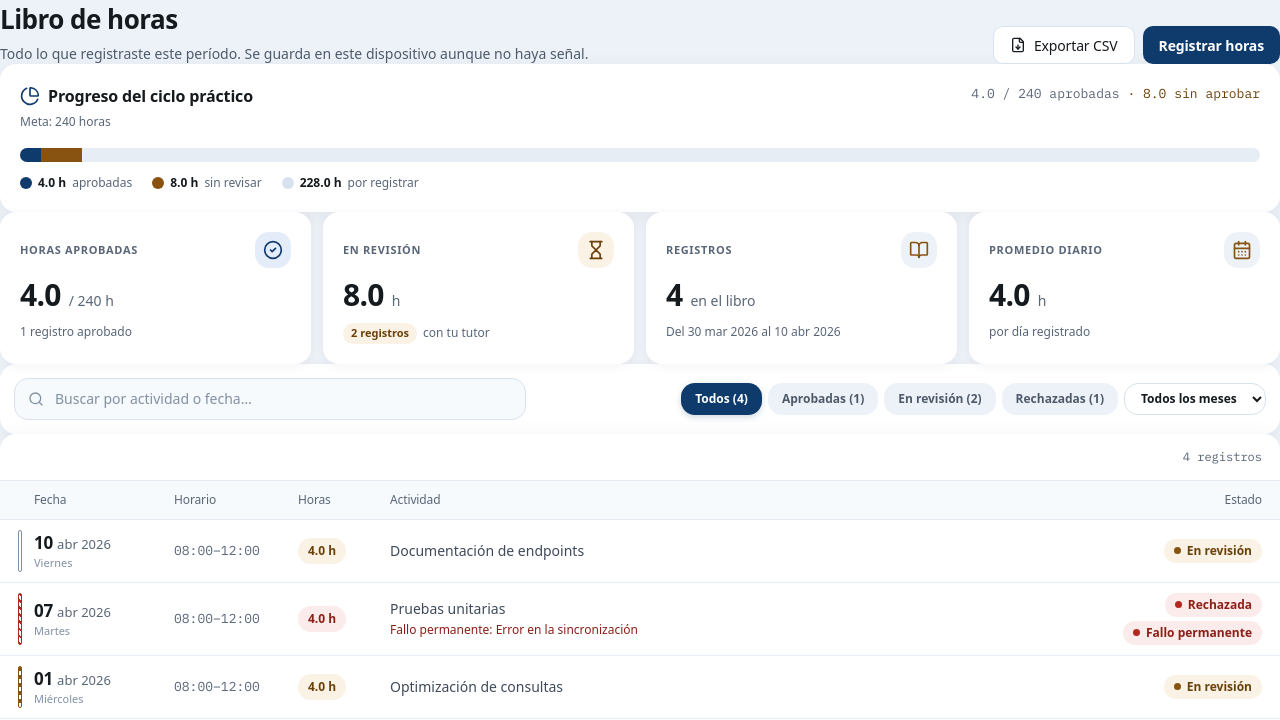
Scenario: libro de horas rediseñado (REDISEÑO-4) › filtros › si nada coincide lo dice y «Quitar filtros» devuelve todos los registros
The image size is (1280, 720).
Type "zzz" into the search field named "Buscar en el libro".
click(270, 398); type("zzz")  # box [14, 378, 526, 420]
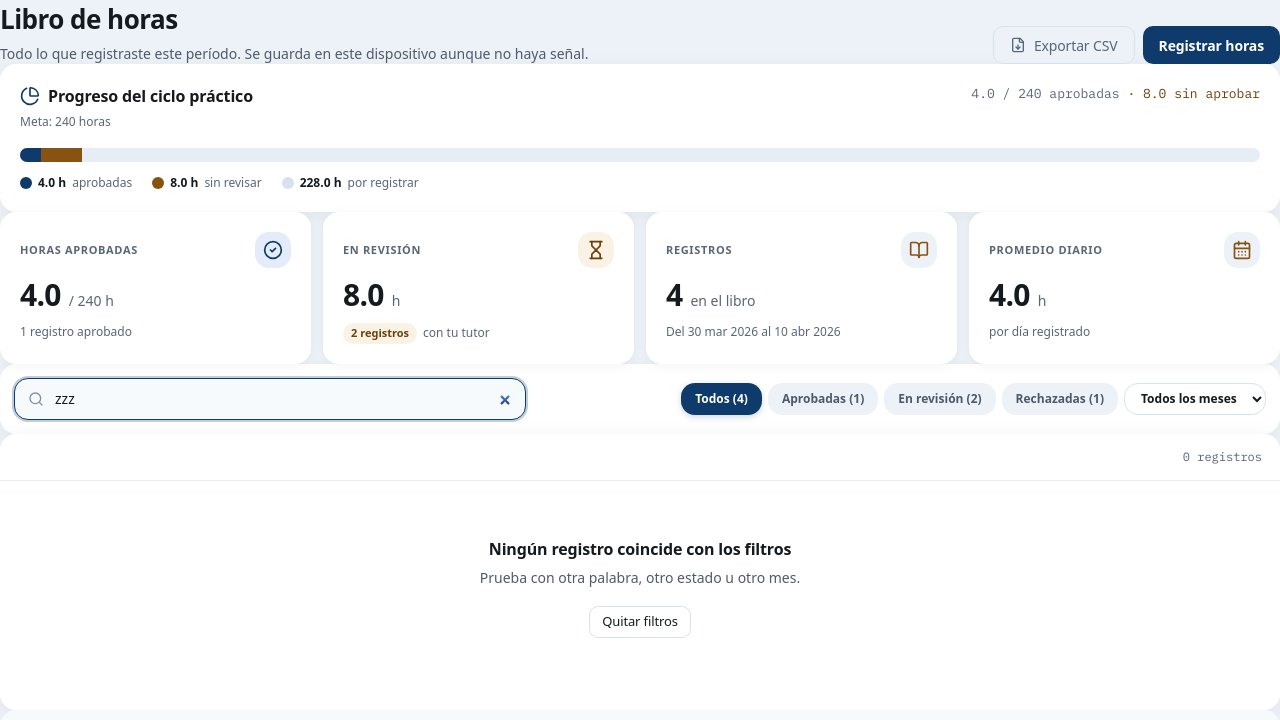
Expected: the text "Ningún registro coincide con los filtros" is shown, [489, 536, 791, 560]
Click the button "Quitar filtros".
click(640, 622)  # box [589, 606, 691, 638]
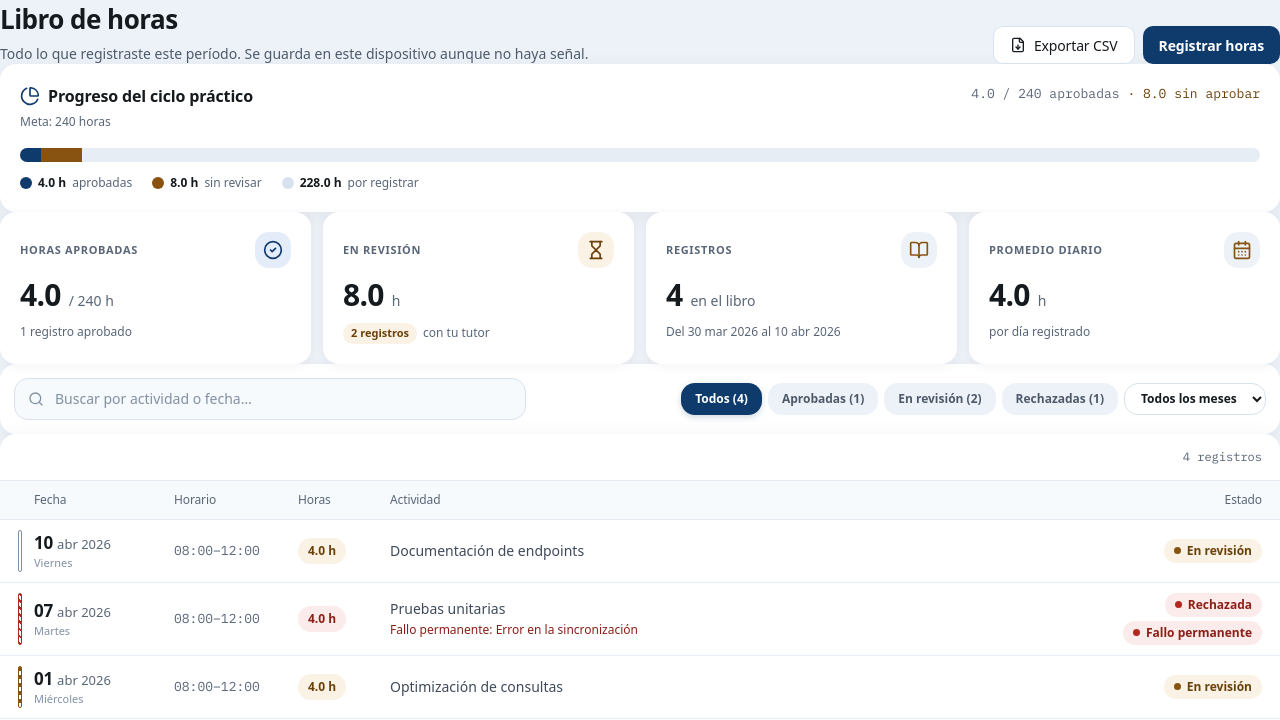
Expected: the text "Pruebas unitarias" is shown, [390, 599, 505, 618]
